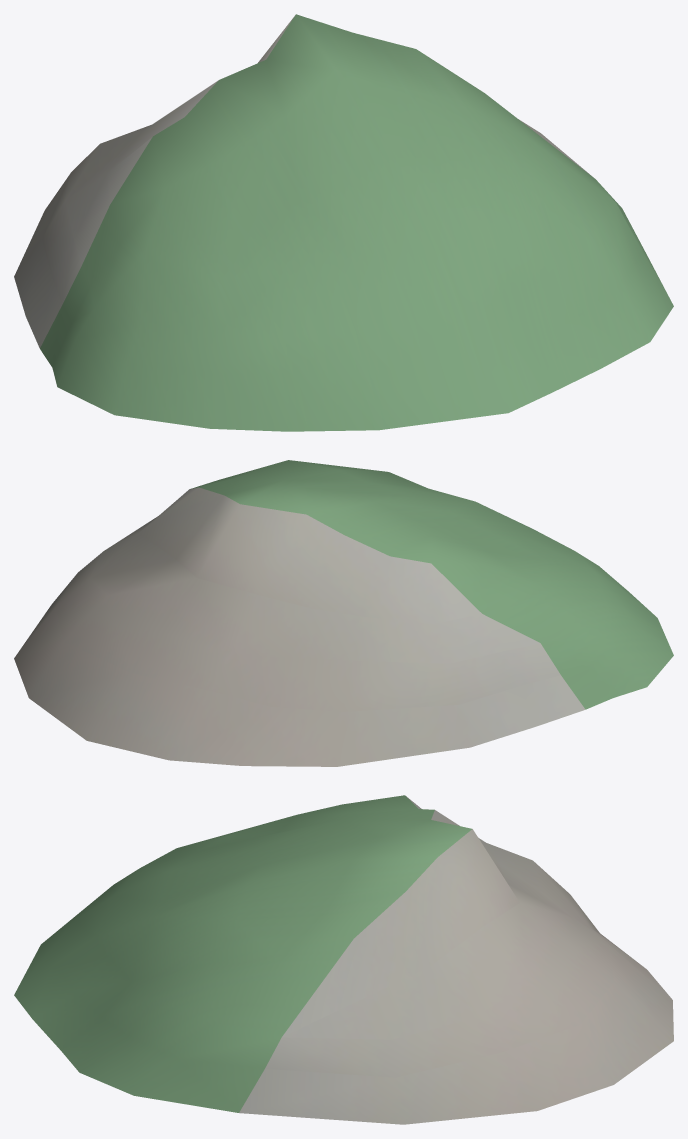
File: GrassMound.fbx
3 renders of one model, top to bottom at view 1: azimuth 30°, elevation 25°; view 2: azimuth 150°, elevation 25°; view 3: azimuth 270°, elevation 25°, orthographic. The views are drawn at different scales.
Visible parts, largest first — view 1: GrassMound; view 2: GrassMound; view 3: GrassMound.
Part boxes in pixels (x1,y1,x2,y2): GrassMound: [14, 14, 673, 431]; GrassMound: [14, 460, 673, 766]; GrassMound: [14, 795, 673, 1124].
Bounding box in the file's own units: 34.7 × 11.37 × 36.29.
Materials: 1 (1 with a texture image).
